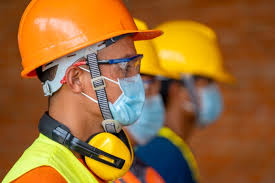Helmet: (8, 3, 147, 68)
Mask: (102, 78, 160, 130)
